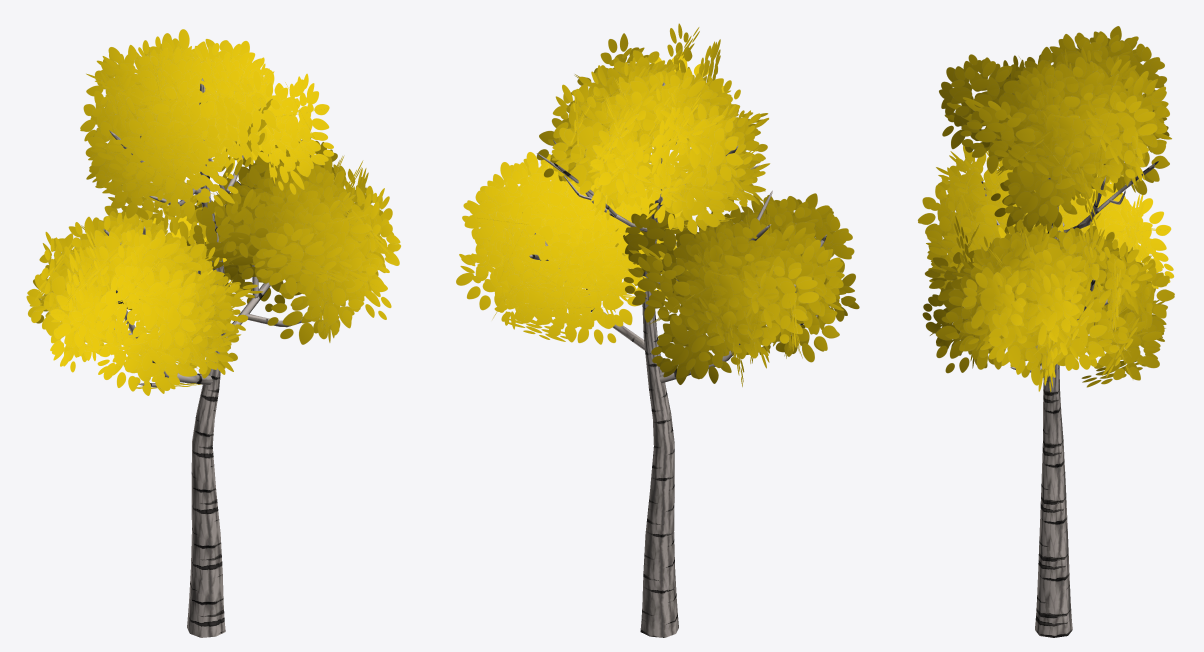
Rendered from BirchTree_4.glb.
3 renders of one model, left to right at view 1: azimuth 30°, elevation 25°; view 2: azimuth 150°, elevation 25°; view 3: azimuth 270°, elevation 25°, orthographic.
Visible parts, largest first — view 1: BirchTree_4; view 2: BirchTree_4; view 3: BirchTree_4.
Part boxes in pixels (x1,y1,x2,y2): BirchTree_4: (26,29,400,637); BirchTree_4: (456,23,859,637); BirchTree_4: (917,26,1174,637).
Bounding box in the file's own units: 2.78 × 4.21 × 1.84.
2 materials, 2 textured.
